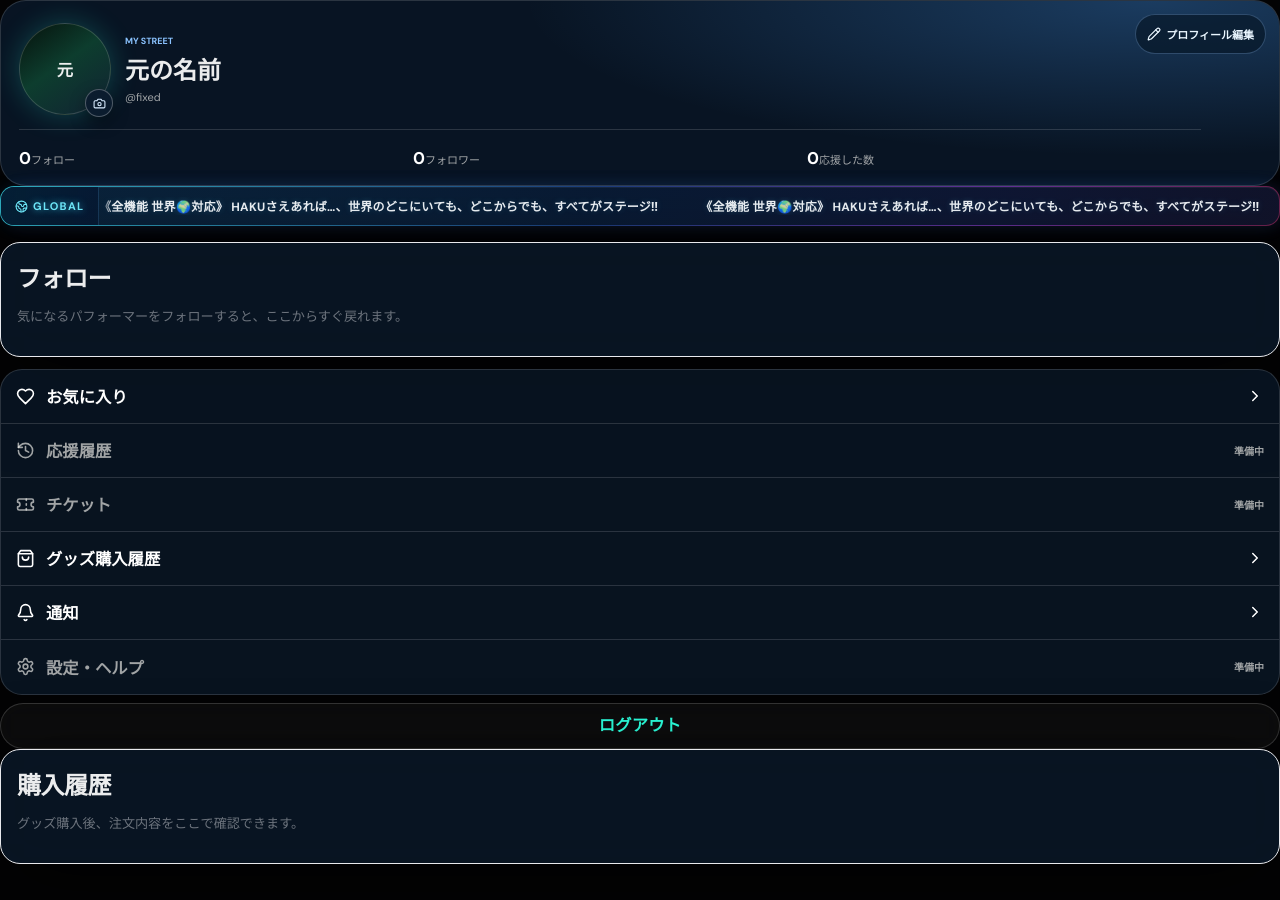
Test: fan profile display name editor › opens from the profile header, saves, refreshes, and keeps the login identifier unchanged
The image size is (1280, 900).
Click the button "プロフィール編集" at (1201, 34), box [1135,14,1266,54]
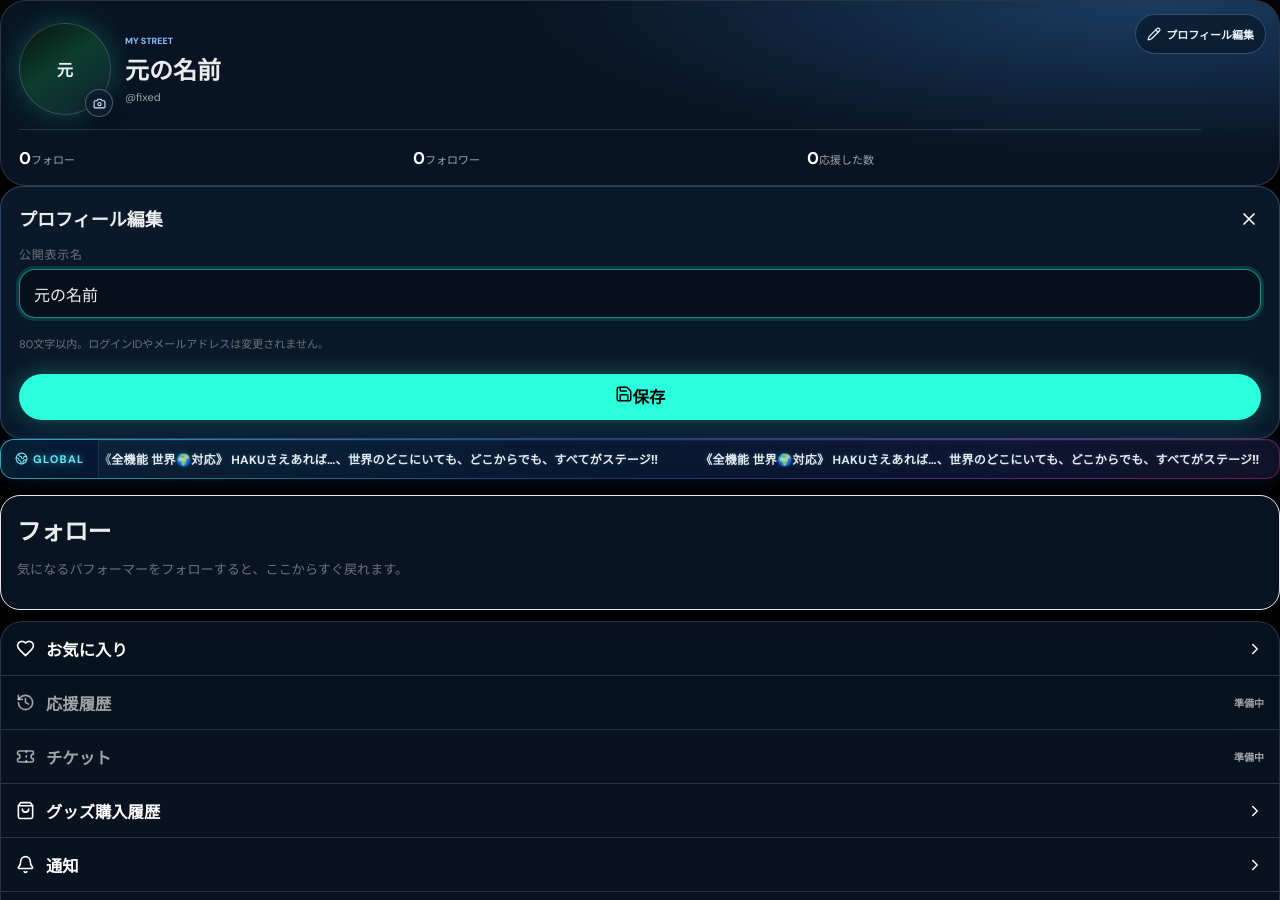
Now the field labelled "公開表示名" holds "元の名前"
Replace the text in the field labelled "公開表示名" with "  新しい名前  " at (640, 294), box [19,269,1261,318]
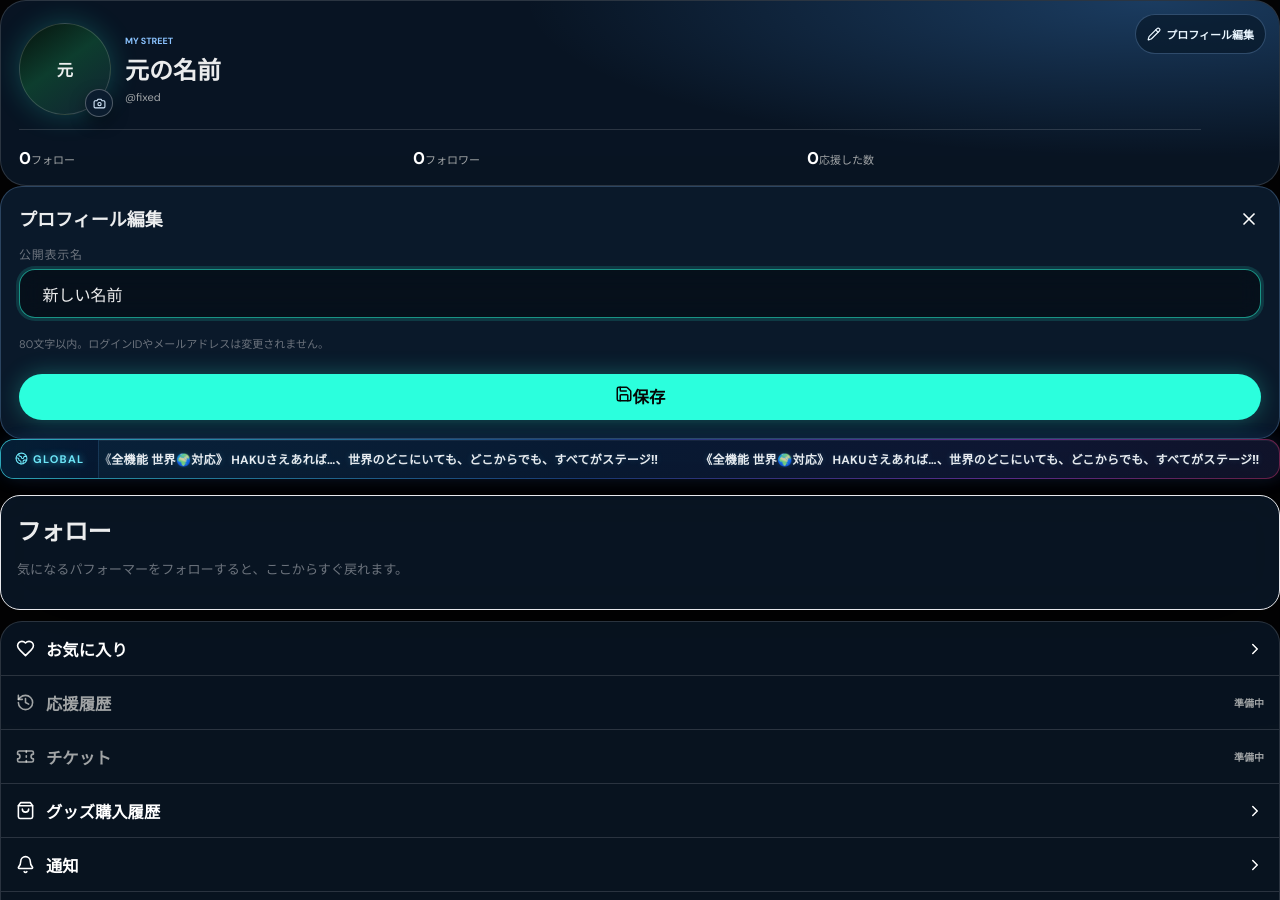
Click the button "保存" at (640, 396), box [19,374,1261,420]
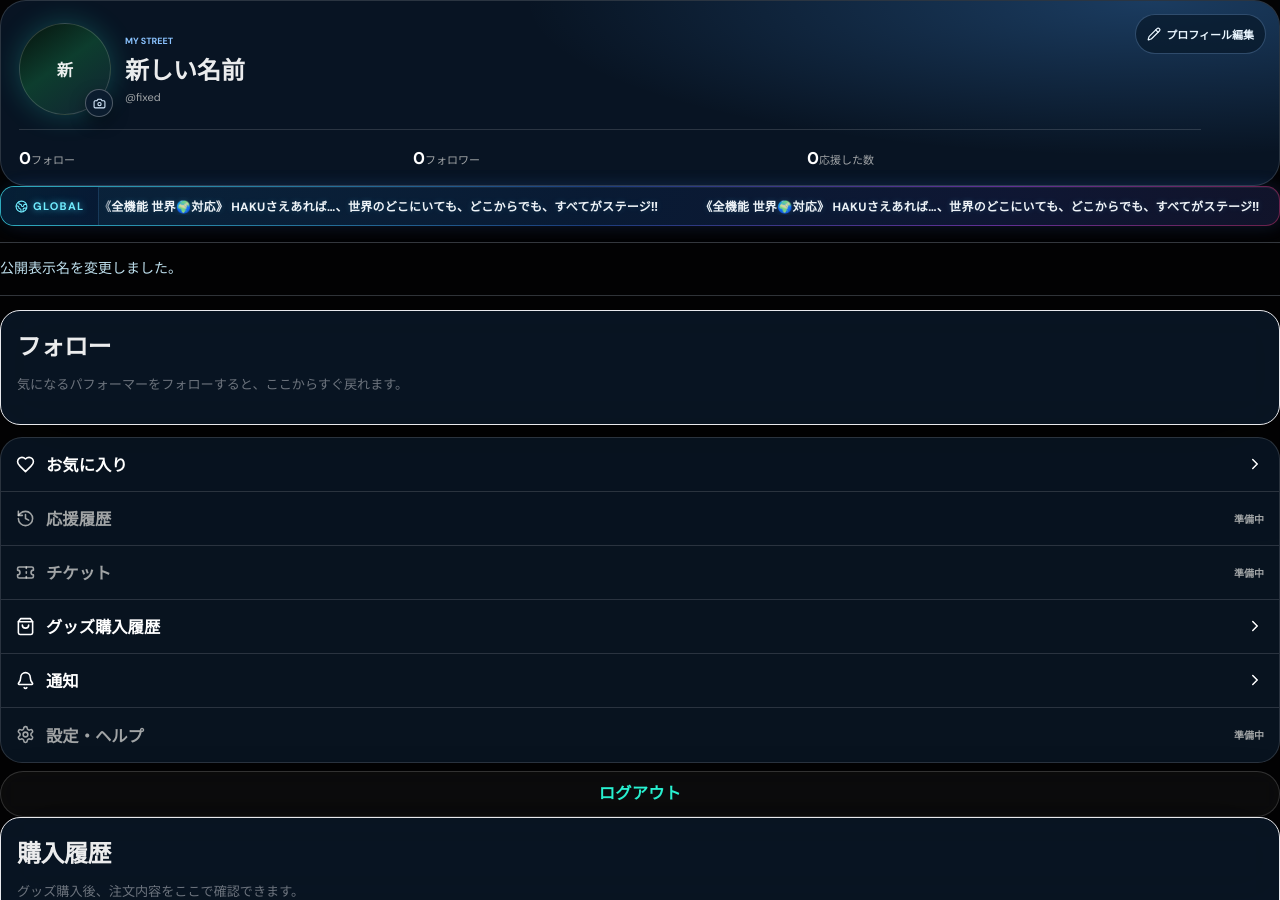
Expected: the text "@fixed" is shown, [125,90,161,104]
Now the heading "新しい名前" is shown, box [125,54,245,86]
